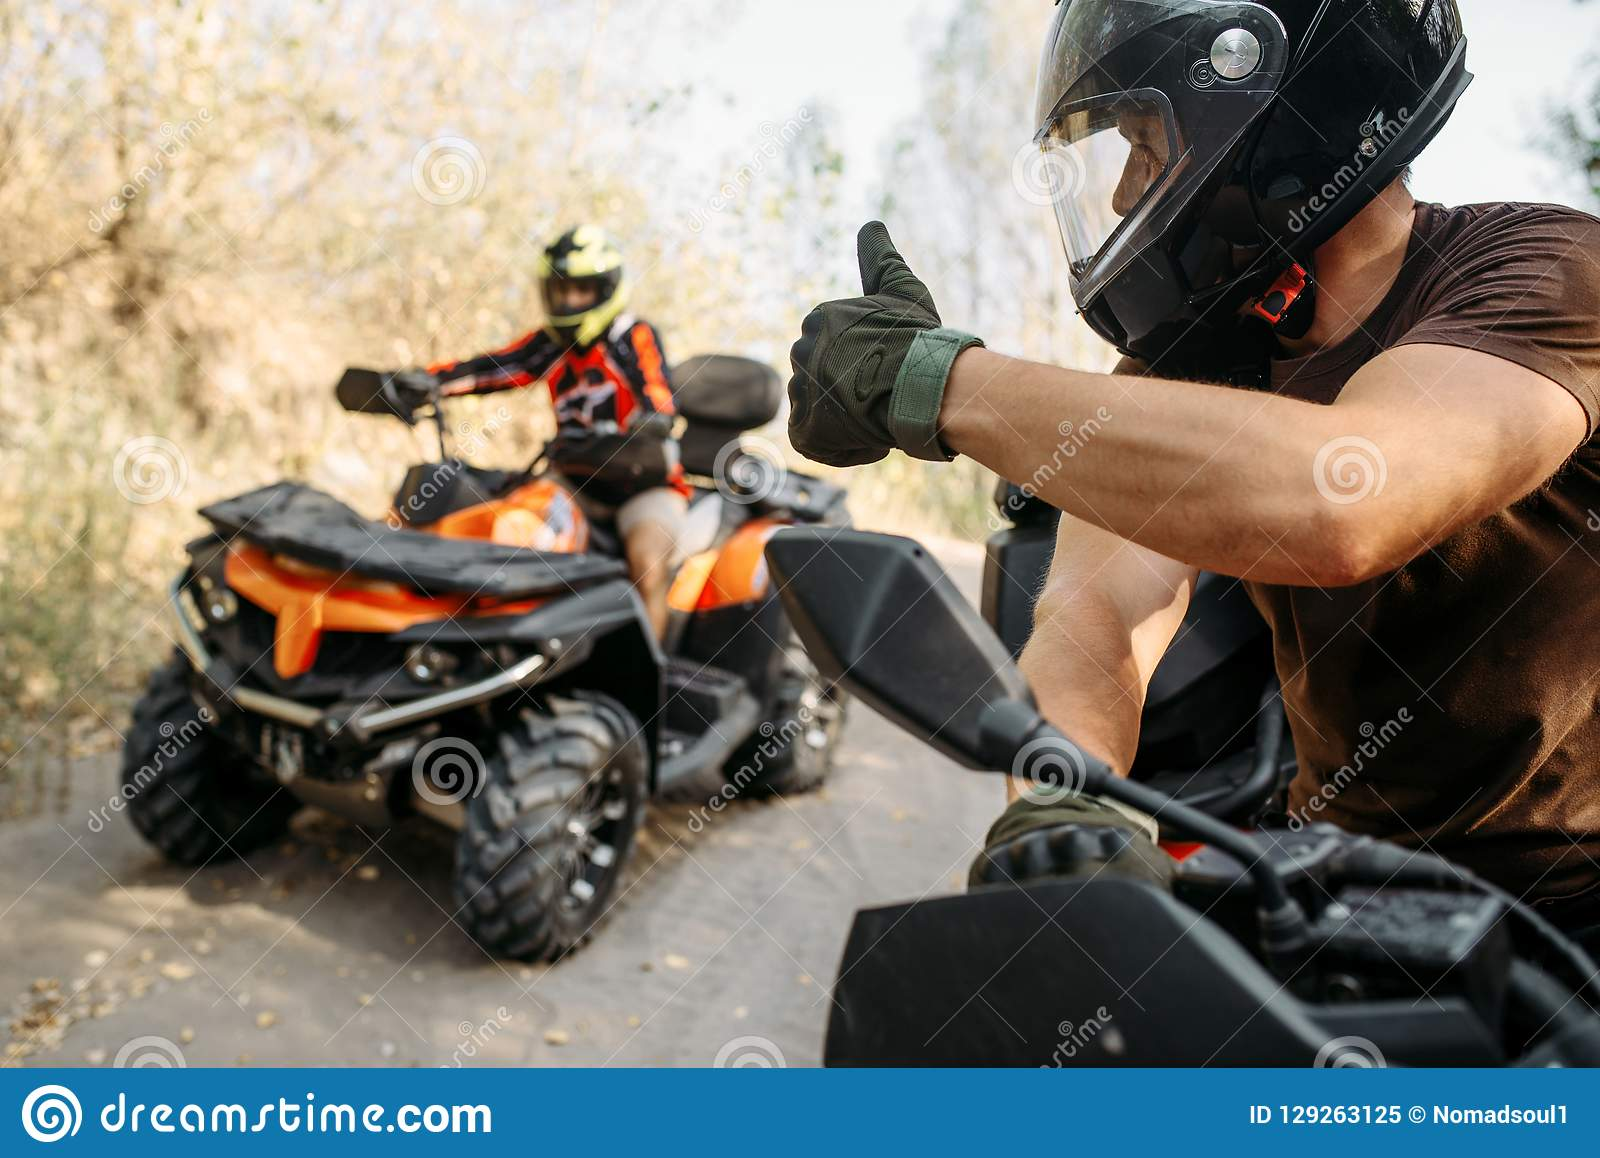helmet: (1030, 2, 1493, 299), (539, 221, 629, 350)
